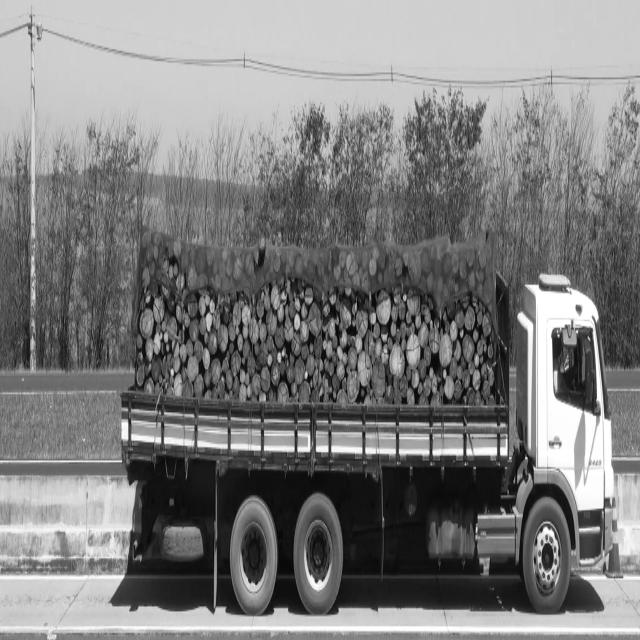Pole: (29, 6, 36, 373)
Truck: (121, 230, 614, 616)
